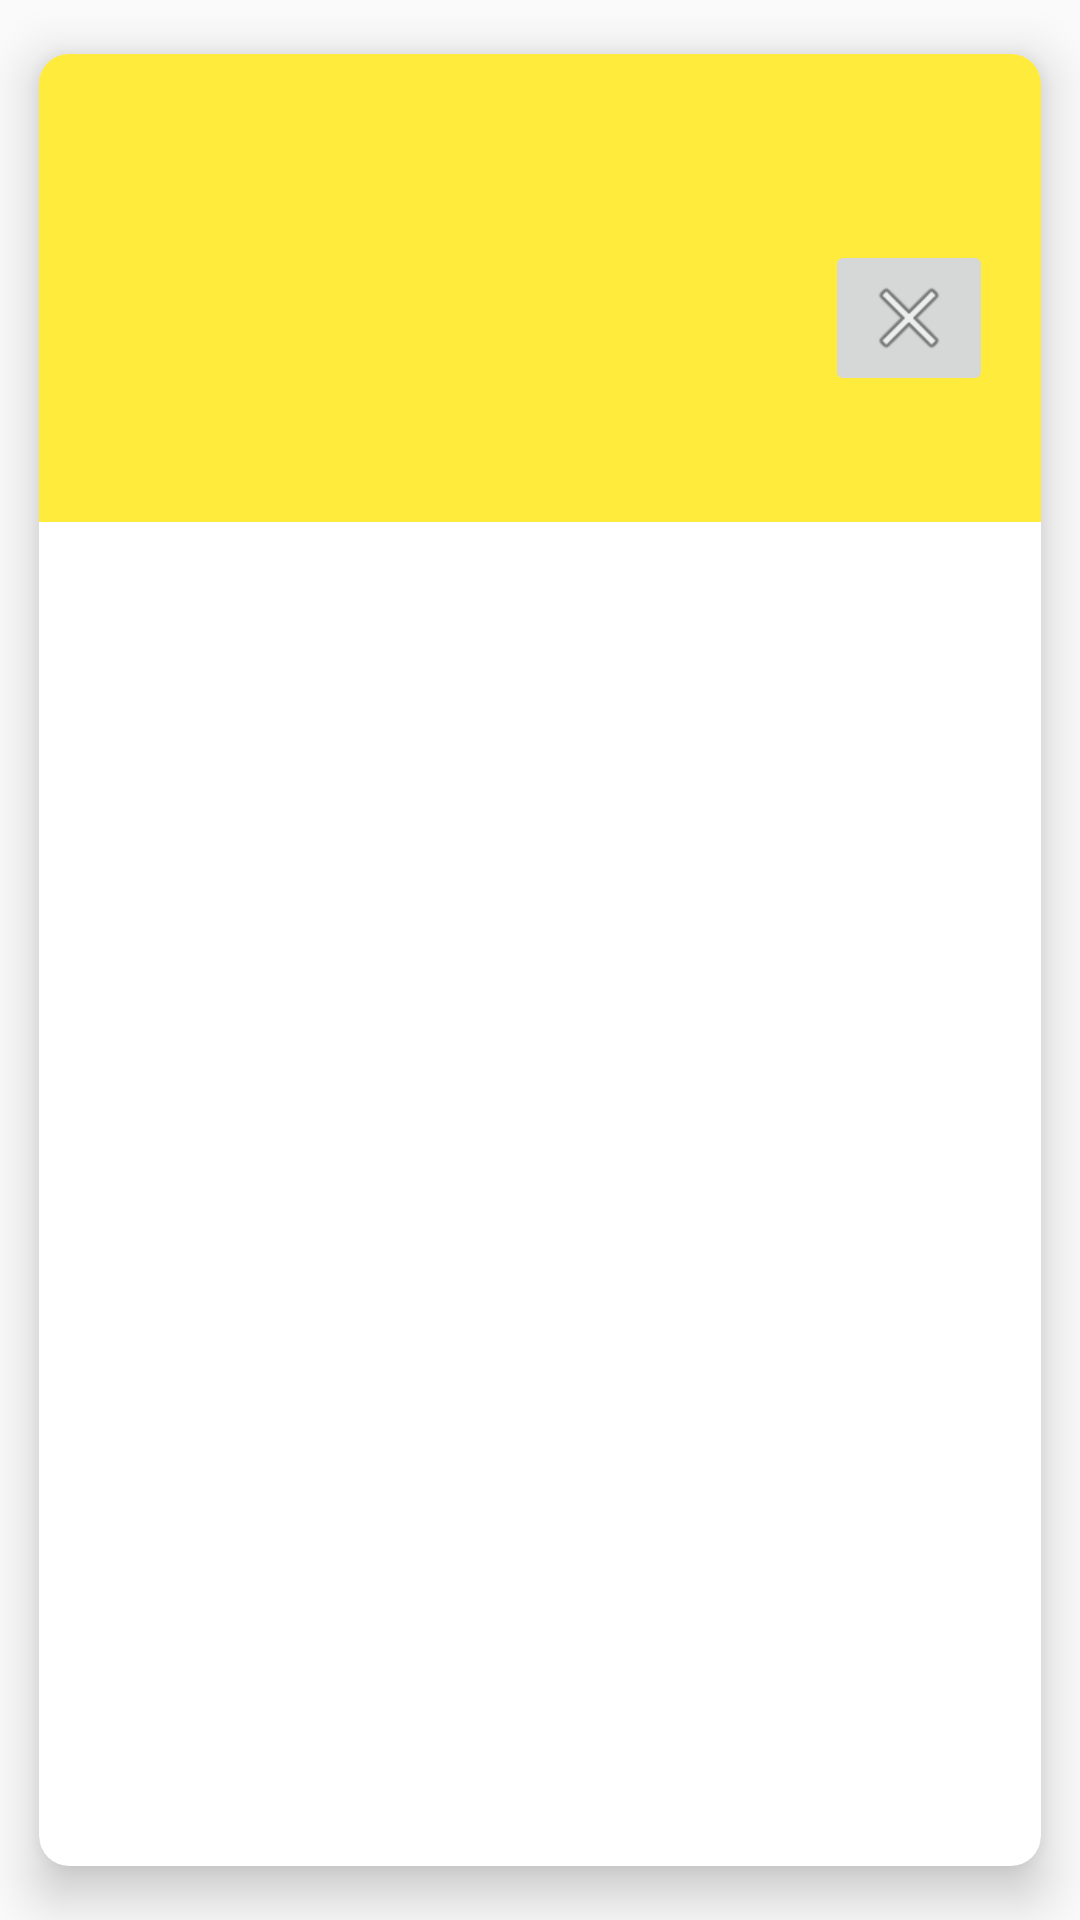

Where icons sit on this 1080×1920 app screen, as (x1, y1, x2, y2):
Delete the item: (837, 258, 981, 378)
